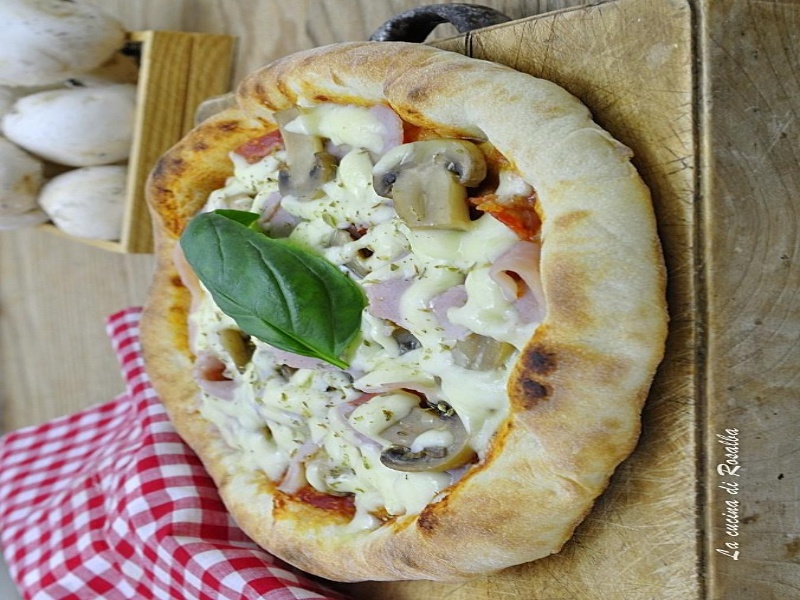champignon: (364, 132, 504, 234), (345, 389, 490, 481), (264, 99, 348, 208)
